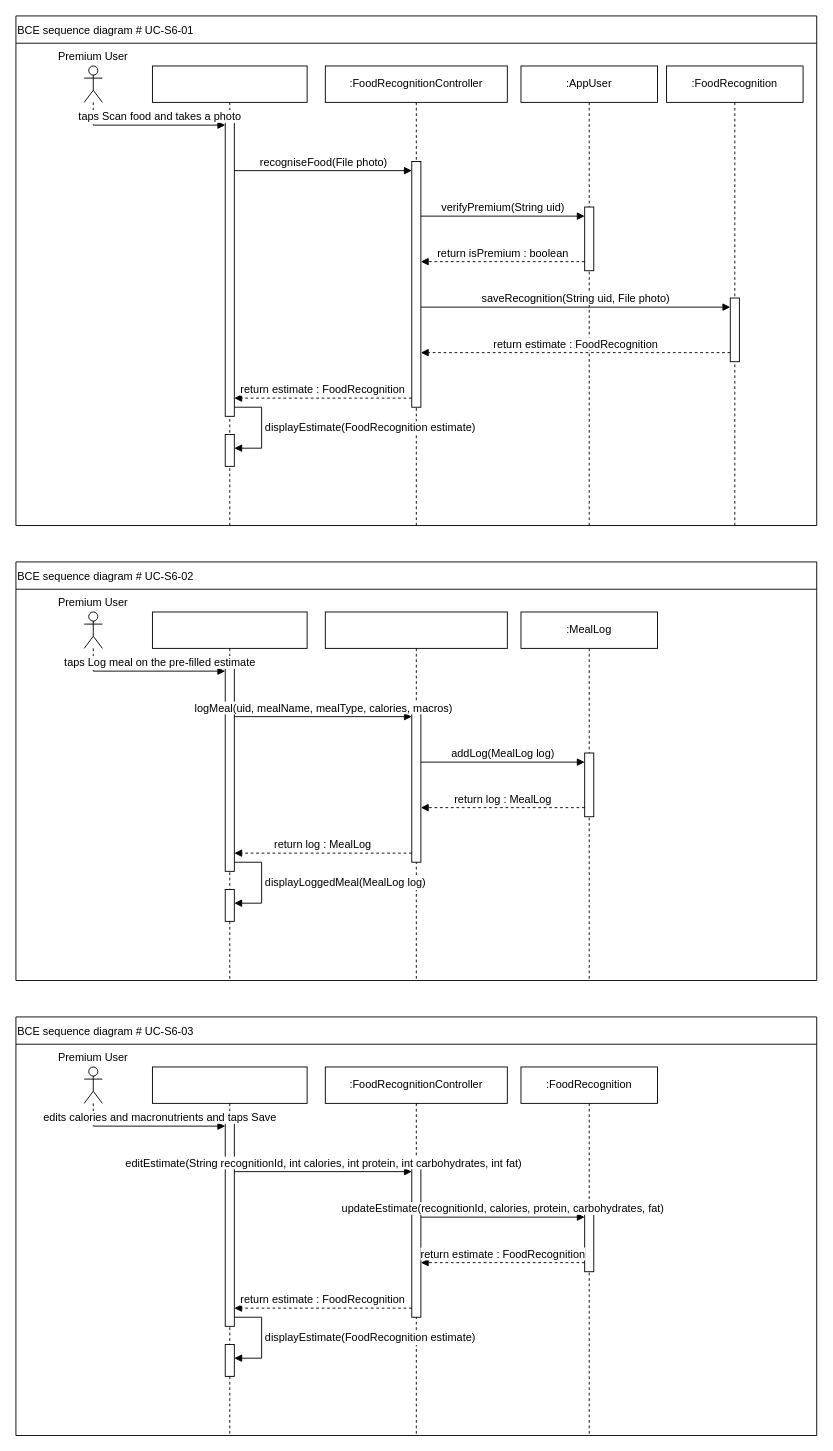
The diagram is 833 pixels wide and 1451 high, and some of its shapes have lost their labels. Here are the shapes that lost their labels. From the top down, the box of each, then its label:
(152, 65, 307, 526): :FoodRecognitionPage
(152, 611, 307, 981): :LogMealPage
(324, 611, 507, 981): :MealLogController
(152, 1066, 307, 1436): :EditAIEstimateGUI
